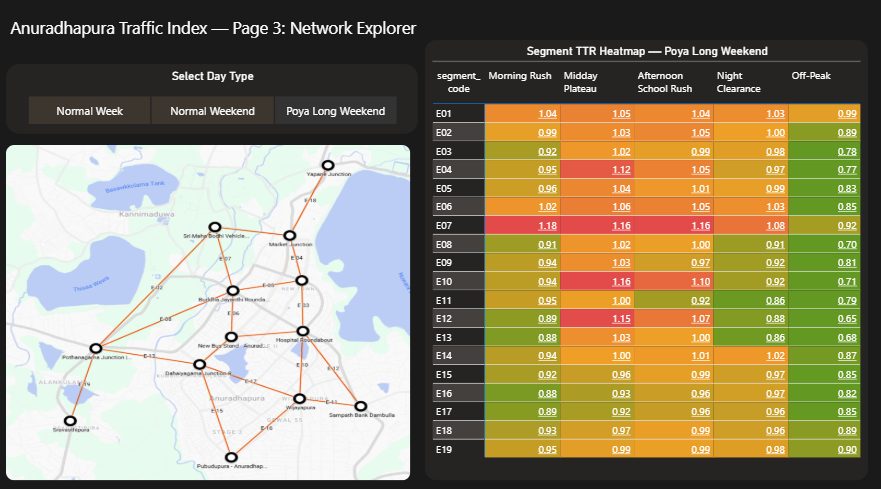

The page's visual inventory and layout, read from the dashboard file:
{"tool":"powerbi","page":{"name":"Page 3_Network Explorer","canvas":[1280,720],"ordinal":2},"visuals":[{"type":"image","box":[11.6,210.1,585.5,485.5],"z":0},{"type":"pivotTable","title":"Segment TTR Heatmap — Poya Long Weekend","fields":{"Columns":["CombinedData (2).Temporal_Block"],"Values":["CombinedData (2).Avg ATI"],"Rows":["CombinedData (2).segment_code"]},"box":[618.8,58,642,637.7],"z":1000},{"type":"slicer","title":"Select Day Type","fields":{"Values":["CombinedData (2).Day_Type"]},"box":[11.6,92.8,597.1,101.4],"z":2000},{"type":"textbox","title":"Anuradhapura Traffic Index — Page 3: Network Explorer","box":[11.6,21.7,607.2,71],"z":3000}]}

Visuals, with their boxes in screenshot pixels (x1, y1, x2, y2), scaled from the page's 1280x720 canvas onto the 881x489 screenshot:
image: [x1=8, y1=143, x2=411, y2=472]
"Segment TTR Heatmap — Poya Long Weekend" pivotTable: [x1=426, y1=39, x2=868, y2=472]
"Select Day Type" slicer: [x1=8, y1=63, x2=419, y2=132]
"Anuradhapura Traffic Index — Page 3: Network Explorer" textbox: [x1=8, y1=15, x2=426, y2=63]
